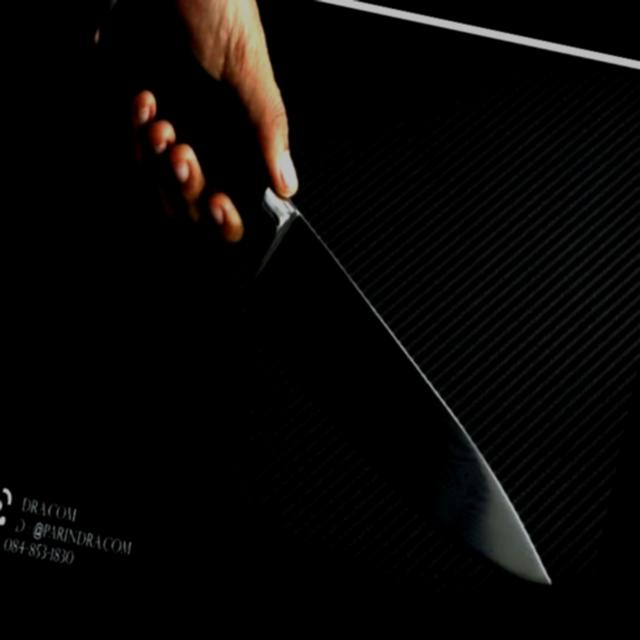knife: (0, 0, 640, 591)
